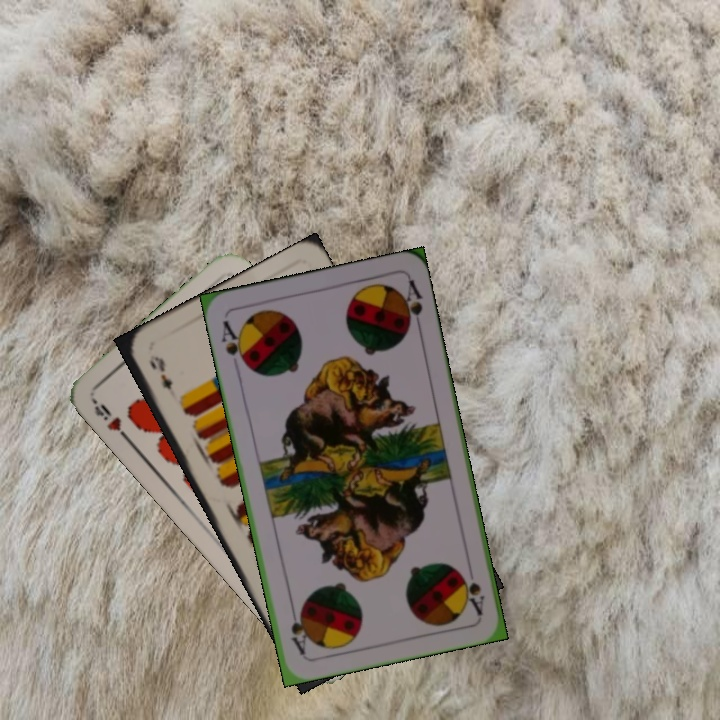E9: (145, 351, 176, 393)
H9: (89, 395, 133, 444)
SA: (217, 316, 250, 371), (457, 568, 487, 618)
